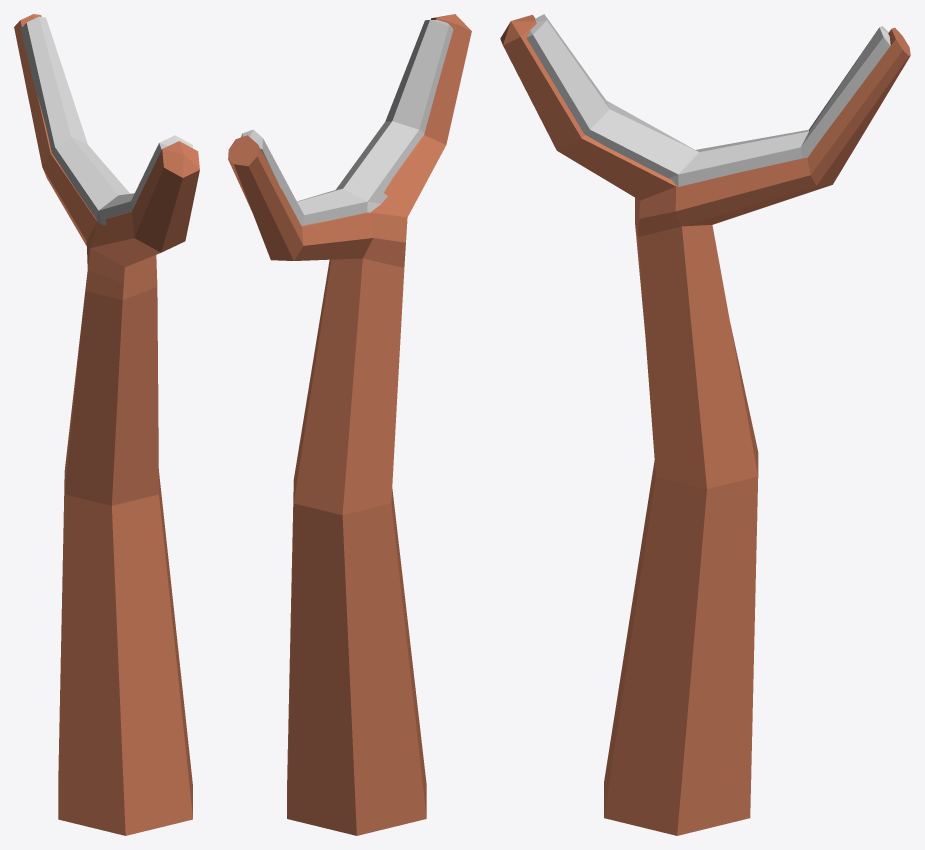
Rendered from Tree_07_winter_mat.fbx.
3 renders of one model, left to right at view 1: azimuth 30°, elevation 25°; view 2: azimuth 150°, elevation 25°; view 3: azimuth 270°, elevation 25°, orthographic. The views are drawn at different scales.
Parts seen in each view (by area): view 1: Tree_07_winter_mat; view 2: Tree_07_winter_mat; view 3: Tree_07_winter_mat.
Part boxes in pixels (x1=…): Tree_07_winter_mat: x1=14, y1=14, x2=199, y2=835; Tree_07_winter_mat: x1=228, y1=14, x2=471, y2=835; Tree_07_winter_mat: x1=500, y1=14, x2=910, y2=835.
Size of the model in its own units: 33.42 by 170 by 81.22.
